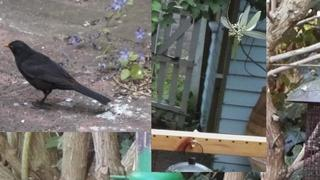blackbird: (2, 40, 111, 111)
